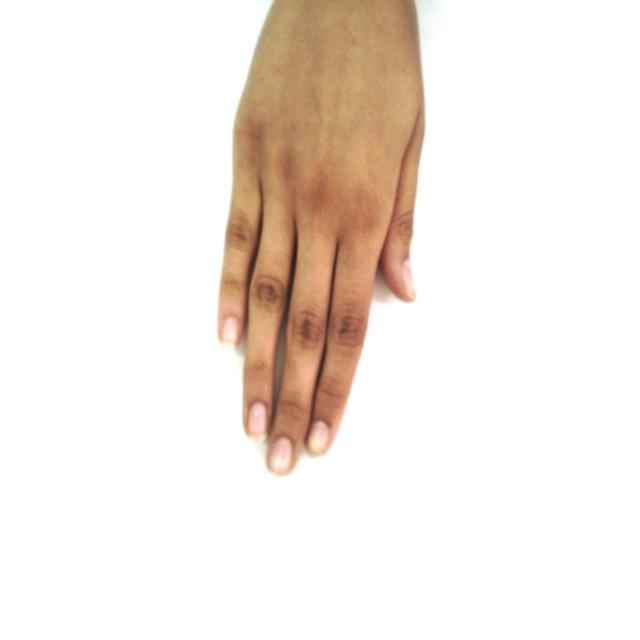Fingernail: (270, 437, 293, 475), (308, 422, 329, 455), (248, 403, 267, 438), (222, 317, 239, 346), (404, 261, 416, 297)
